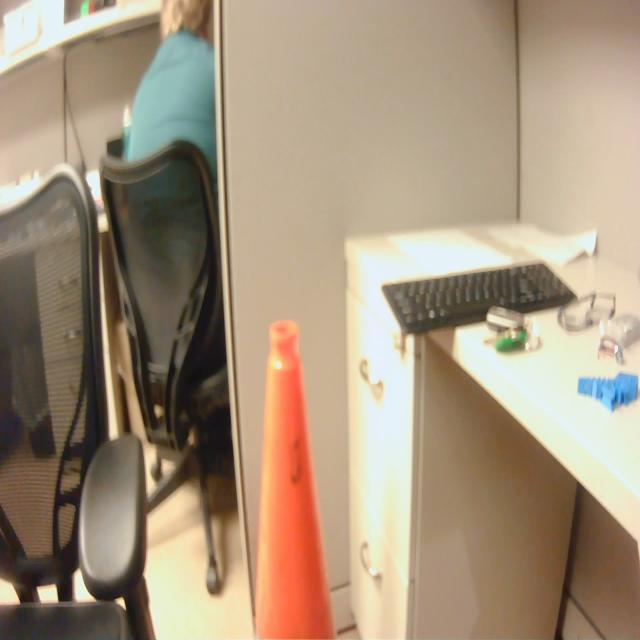traffic cone: (247, 310, 341, 640)
